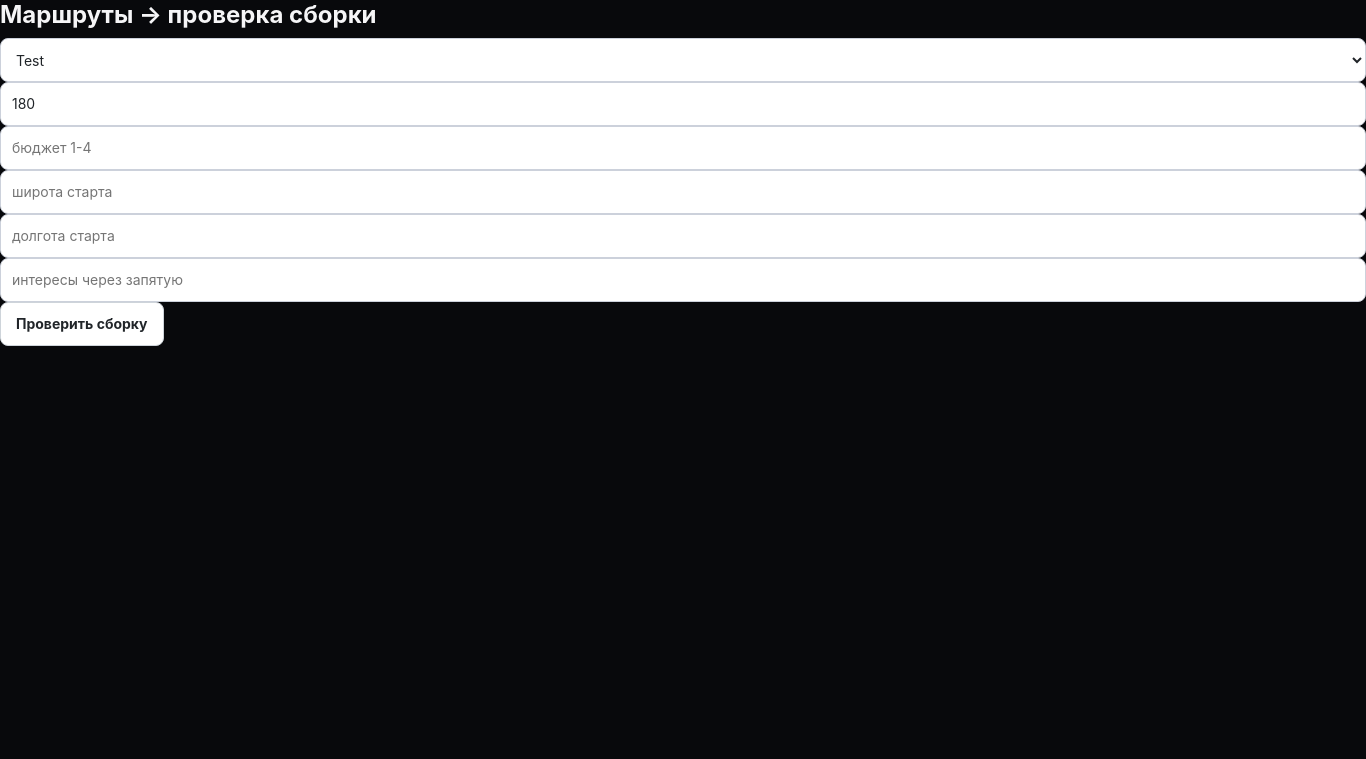
Test case: AdminRouteDryRunPage › explains empty route dry run_new
Step 1. Click the button "Проверить сборку" → (82, 324), box [0, 302, 164, 346]
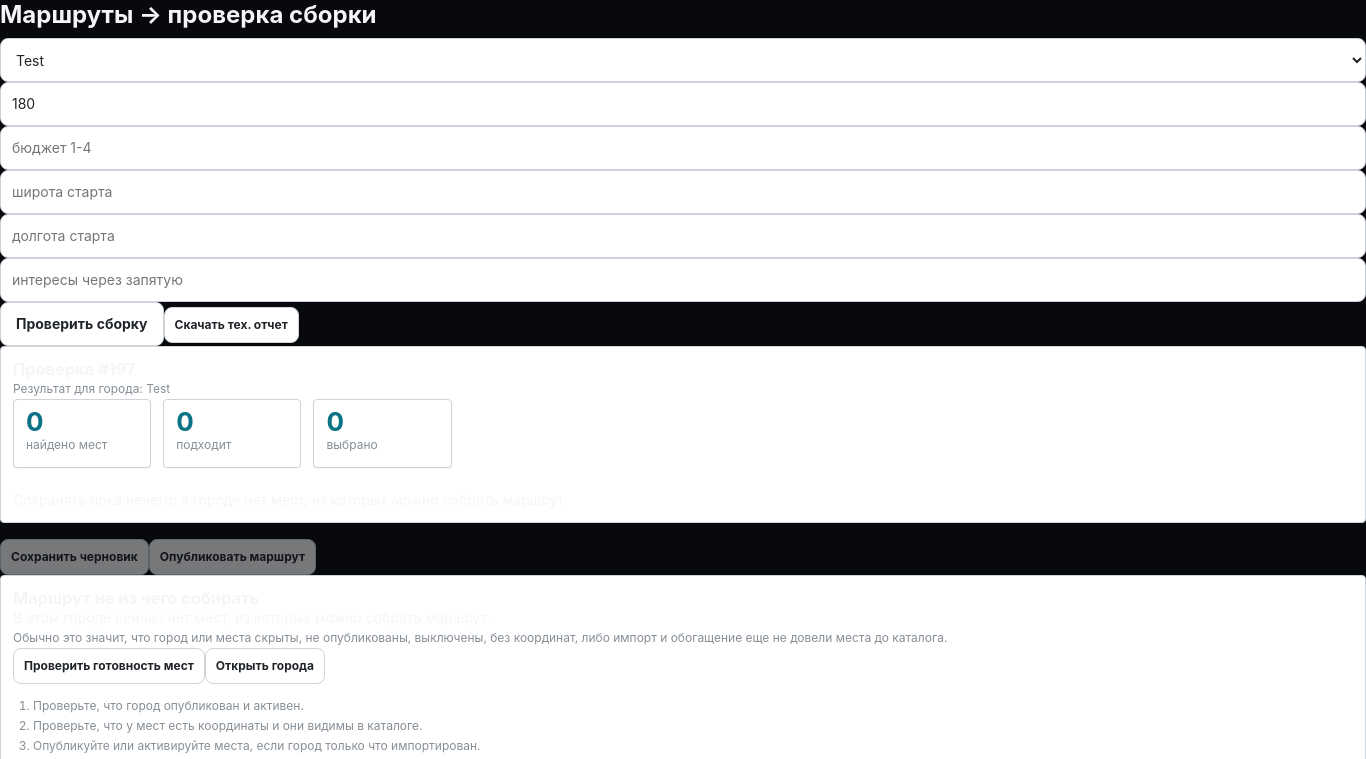
Check: the link "Проверить готовность мест" is shown, box [13, 648, 205, 684]
Check: the link "Открыть города" is shown, box [205, 648, 325, 684]
